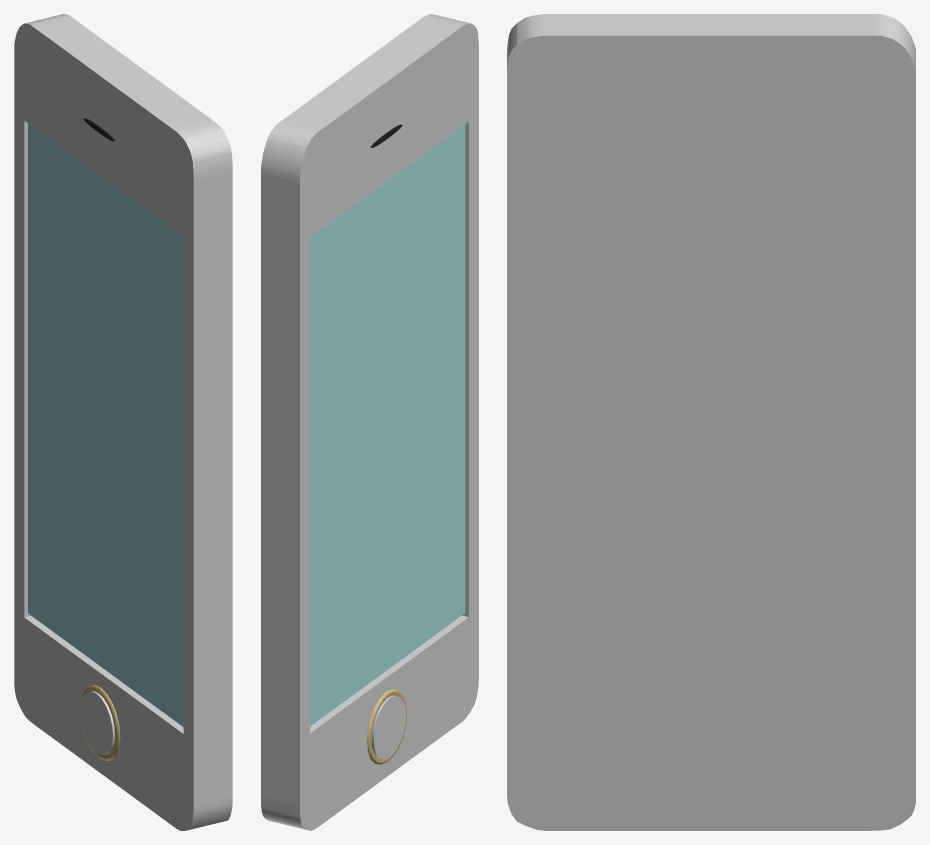
The model's file is Cellphone.fbx.
The picture shows the model from 3 angles, left to right: view 1: azimuth 30°, elevation 25°; view 2: azimuth 150°, elevation 25°; view 3: azimuth 270°, elevation 25°; orthographic projection. The views are drawn at different scales.
Parts seen in each view (by area): view 1: pCylinder3; view 2: pCylinder3; view 3: pCylinder3.
Part boxes in pixels (x1,y1,x2,y2): pCylinder3: (14,14,232,830); pCylinder3: (261,14,478,830); pCylinder3: (507,14,915,830).
Bounding box in the file's own units: 4.26 × 66.03 × 30.76.
